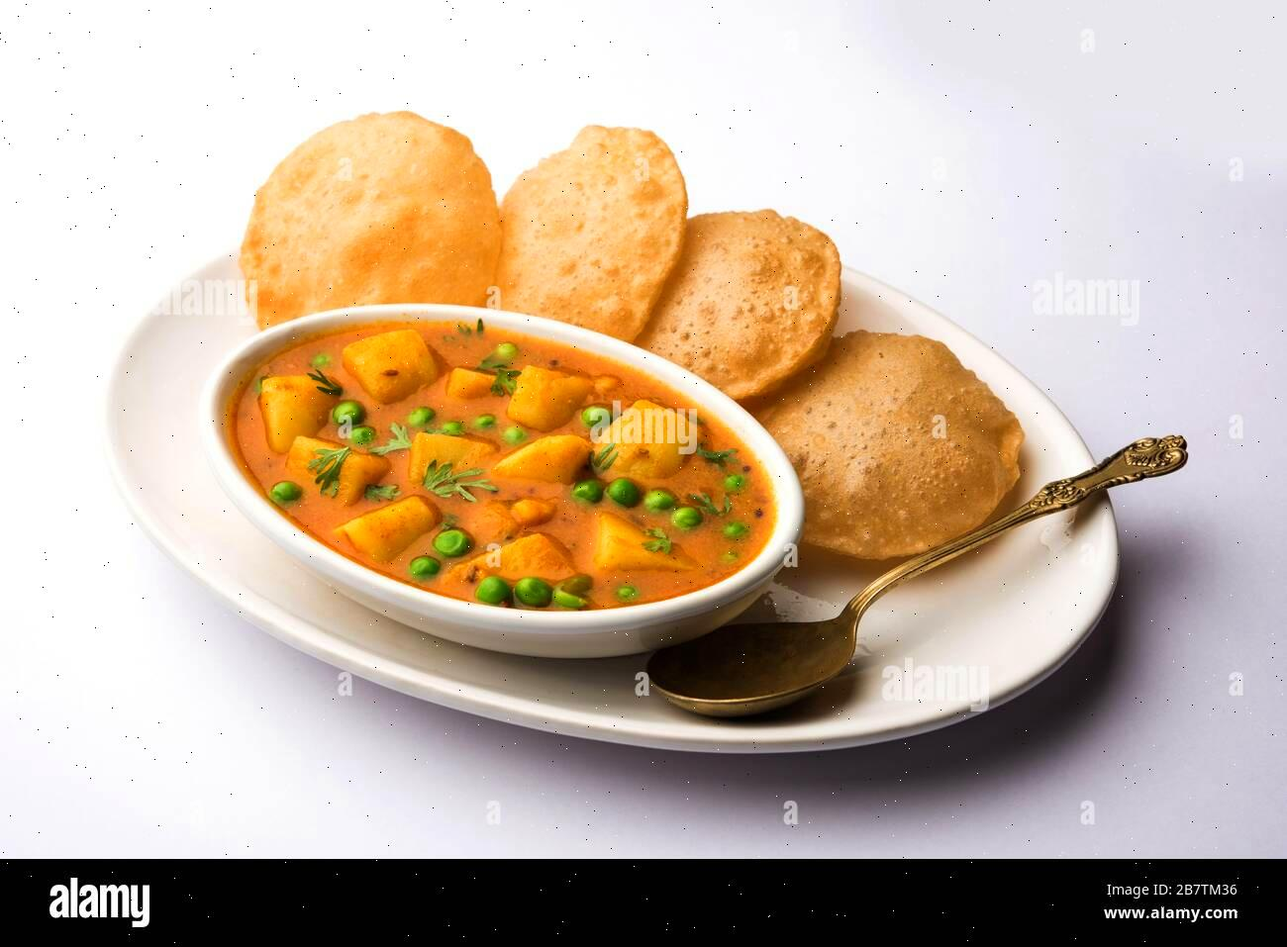puri: (225, 96, 874, 309)
